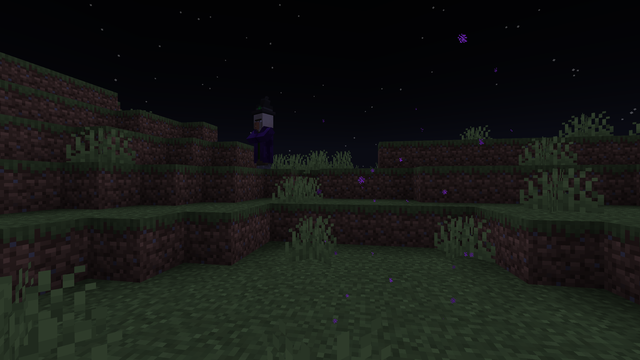sorcieres: (251, 110, 273, 168)
